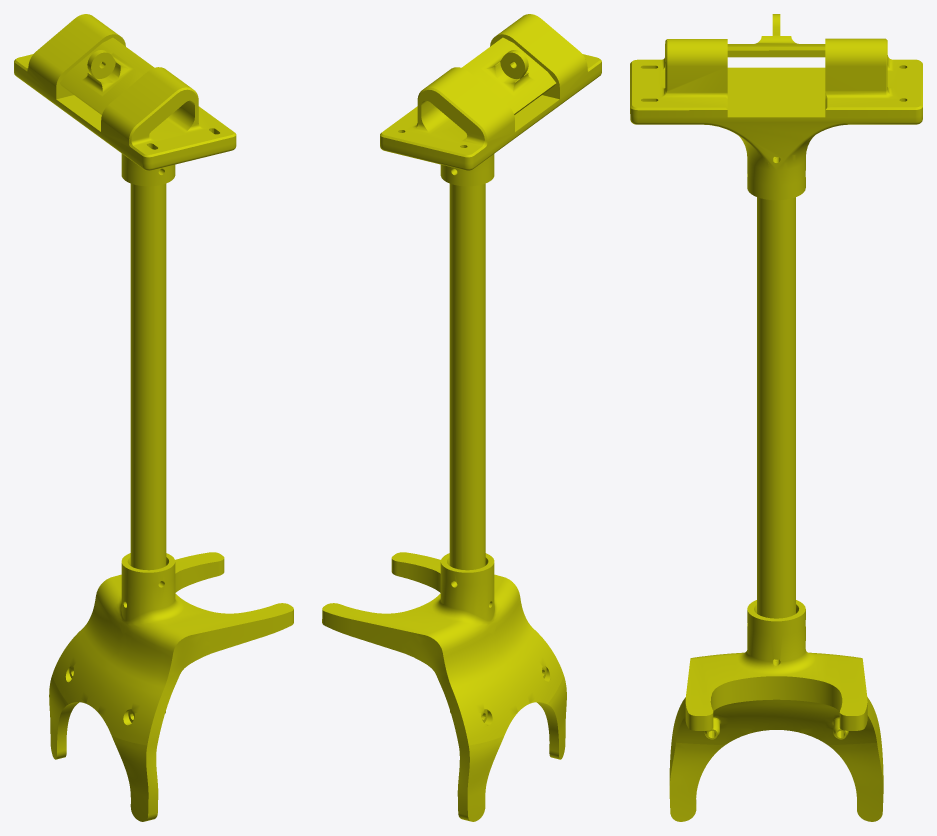
File: xtion_base.dae
The picture shows the model from 3 angles, left to right: view 1: azimuth 30°, elevation 25°; view 2: azimuth 150°, elevation 25°; view 3: azimuth 270°, elevation 25°; orthographic projection. The views are drawn at different scales.
Visible parts, largest first — view 1: Xtion_base; view 2: Xtion_base; view 3: Xtion_base.
Part boxes in pixels (bbox=[...]): Xtion_base: bbox=[14, 14, 293, 821]; Xtion_base: bbox=[322, 14, 601, 821]; Xtion_base: bbox=[630, 14, 922, 821].
Size of the model in its own units: 2.92 by 3.81 by 11.54.
